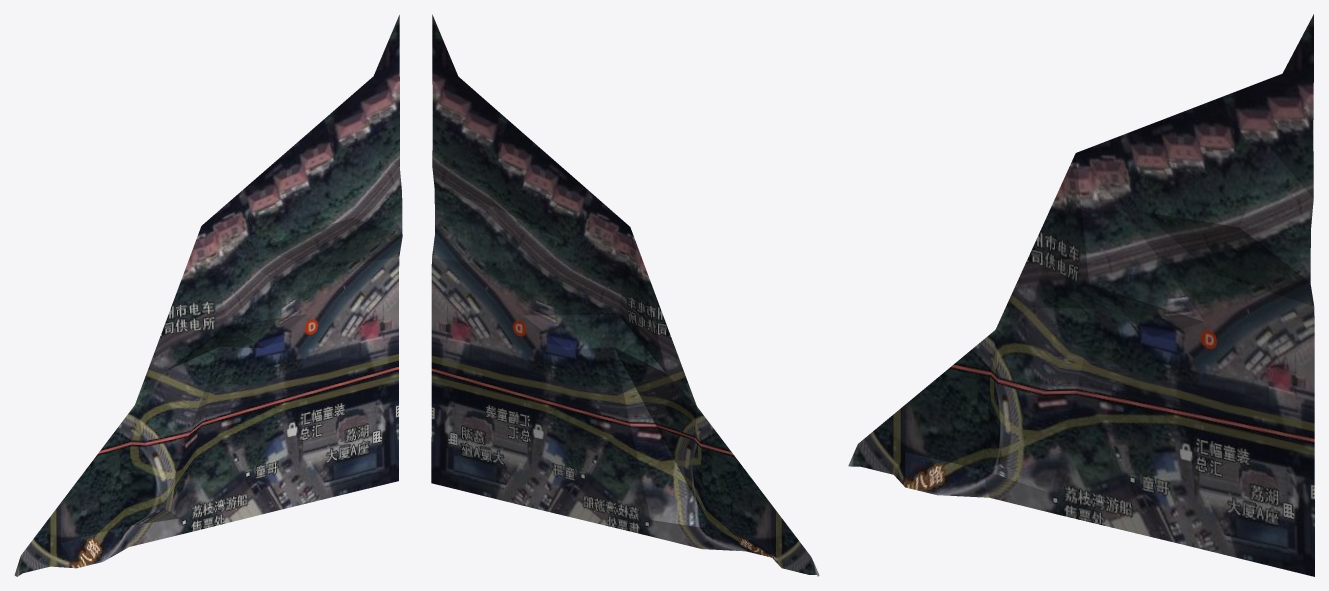
3 views of the same model, side by side, from view 1: azimuth 30°, elevation 25°; view 2: azimuth 150°, elevation 25°; view 3: azimuth 330°, elevation 25° (orthographic). The views are drawn at different scales.
Parts seen in each view (by area): view 1: 0_0_3_3_1_3; view 2: 0_0_3_3_1_3; view 3: 0_0_3_3_1_3.
Part boxes in pixels (x1,y1,x2,y2): 0_0_3_3_1_3: (14, 15, 402, 576); 0_0_3_3_1_3: (431, 14, 819, 576); 0_0_3_3_1_3: (848, 14, 1314, 576).
Bounding box in the file's own units: 222 × 258 × 12.39.
1 material, 1 textured.
